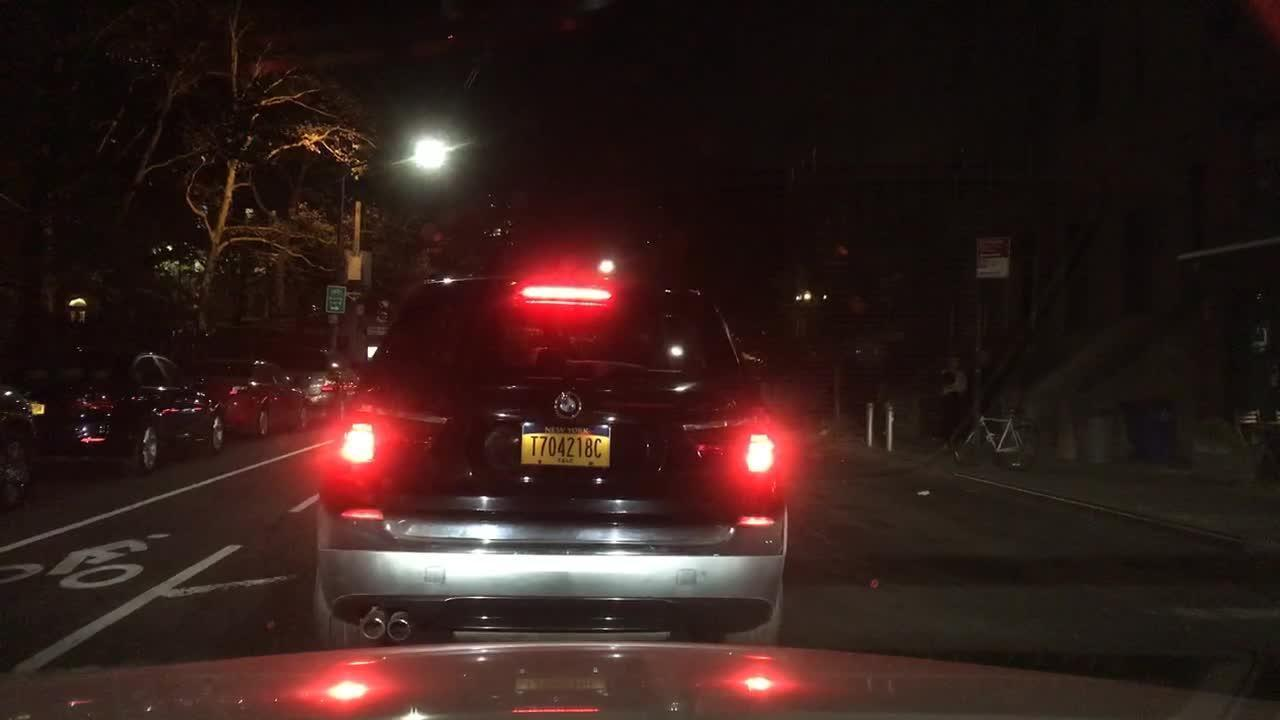bmw: (552, 386, 585, 421)
